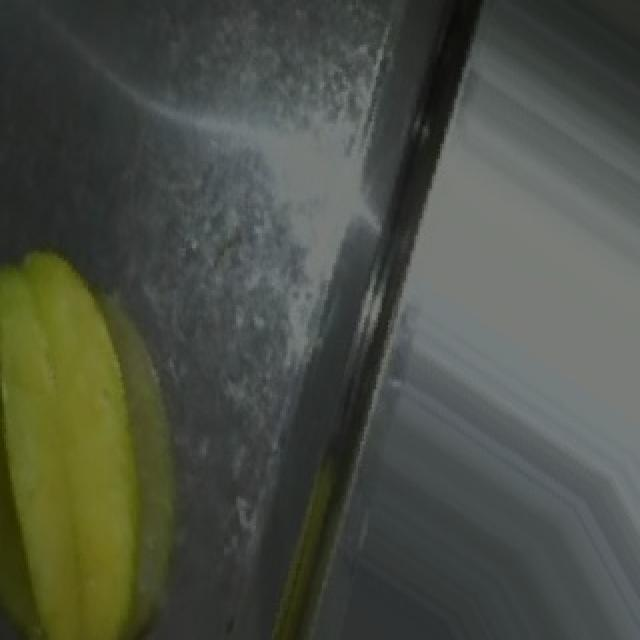fruit: (0, 233, 252, 630), (438, 0, 640, 246)
